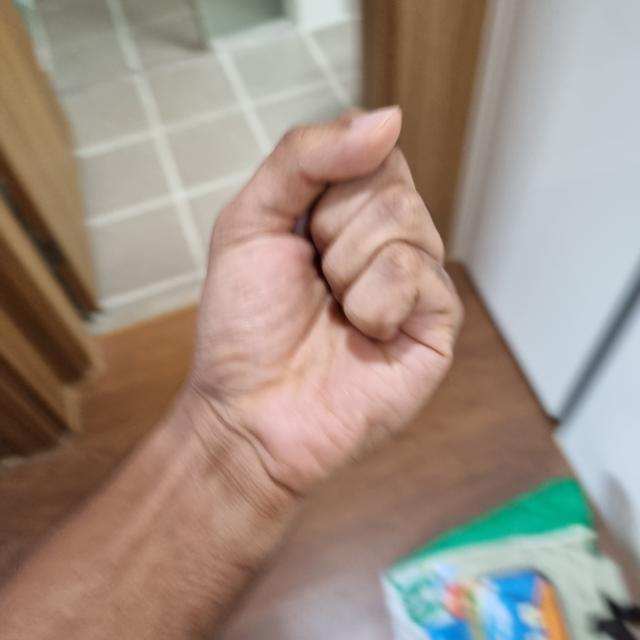Rock: (186, 106, 457, 493)
